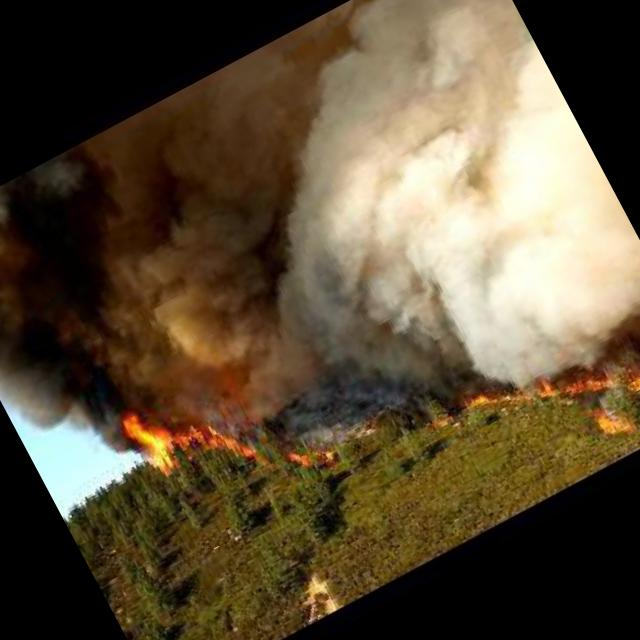fire: (454, 293, 640, 498), (115, 363, 273, 520)
smoke: (0, 44, 397, 496)
